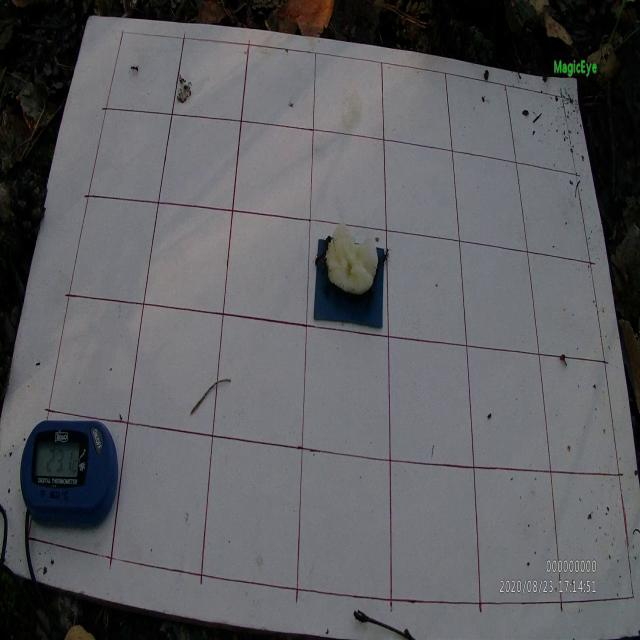Ant: (311, 250, 326, 266), (380, 247, 392, 266), (128, 64, 140, 74)
